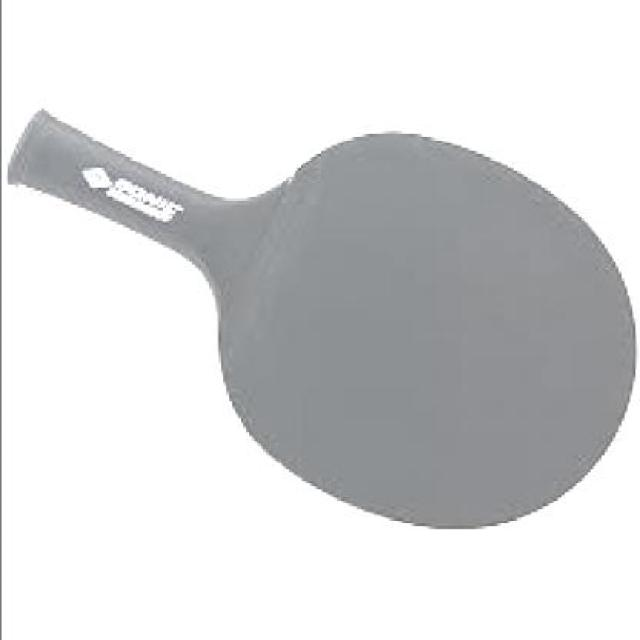table_tennis_racket: (208, 125, 640, 533)
